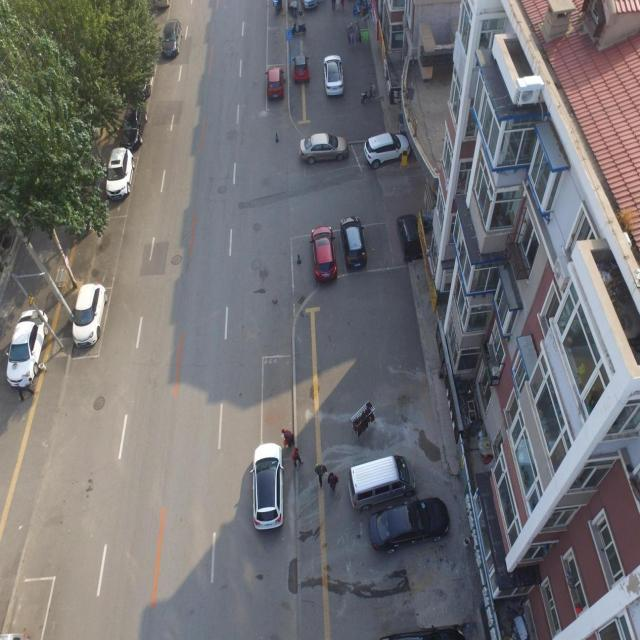p3rson: (17, 371, 34, 402), (291, 446, 304, 471), (315, 462, 327, 488), (281, 427, 294, 448), (327, 471, 338, 493), (359, 2, 367, 17), (329, 0, 335, 11), (339, 0, 344, 9), (335, 0, 339, 9)
